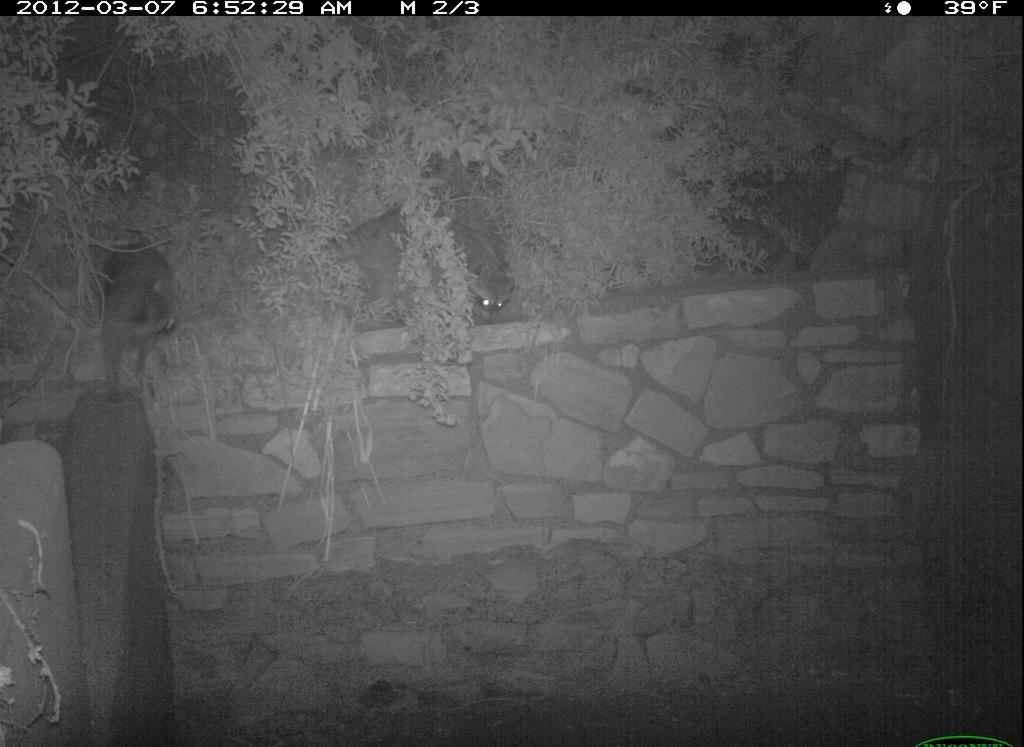raccoon: (337, 217, 520, 327), (94, 217, 180, 406)
